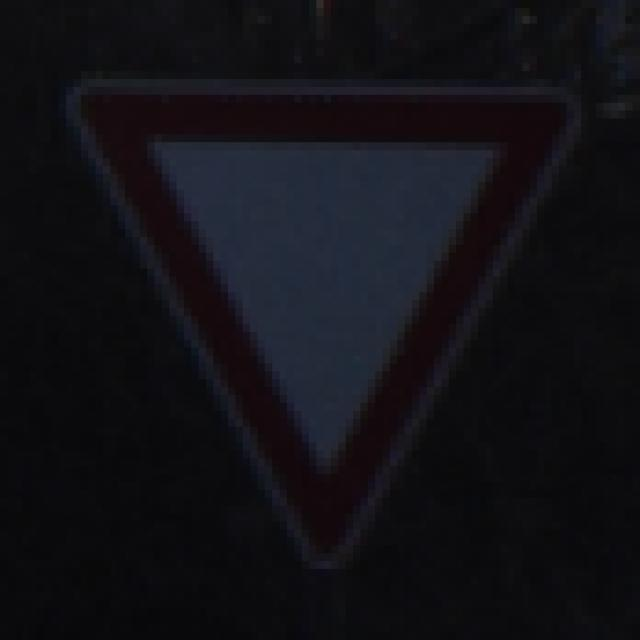Give Way: (53, 56, 590, 586)
